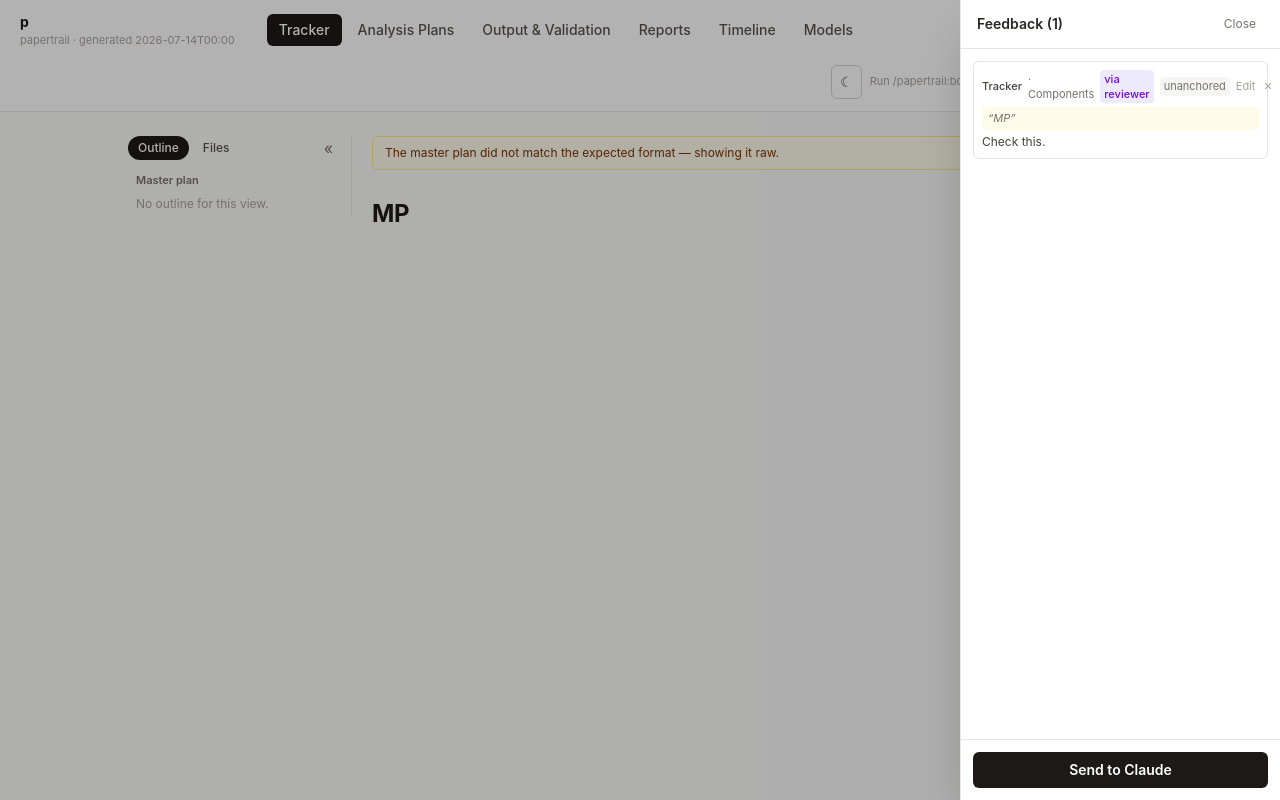
Test: App (static mode render/route) › shows pending-order recovery without entering the applying state
The image size is (1280, 800).
Click the button "Send to Claude".
click(1120, 770)  # box [973,752,1268,788]
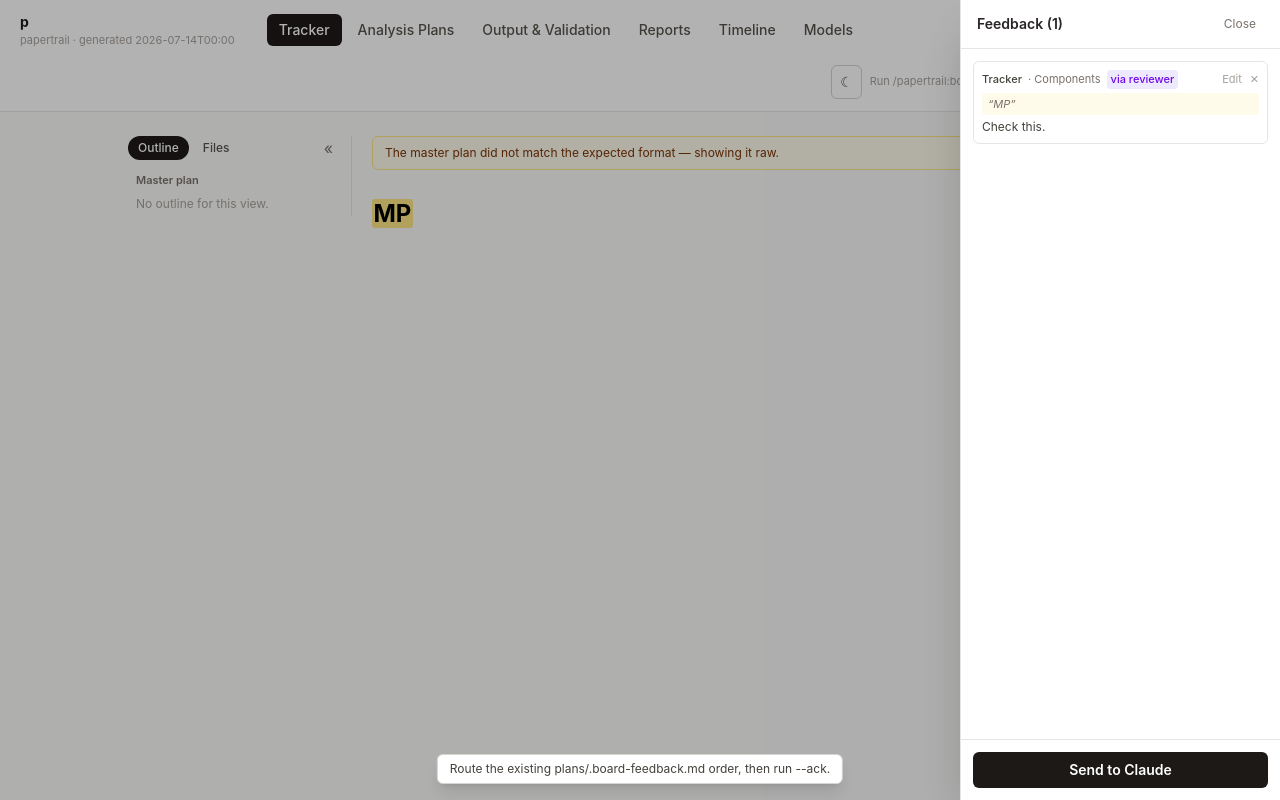
Result: the text "Route the existing plans/.board-feedback.md order, then run --ack." is shown at [437,754,843,784]
